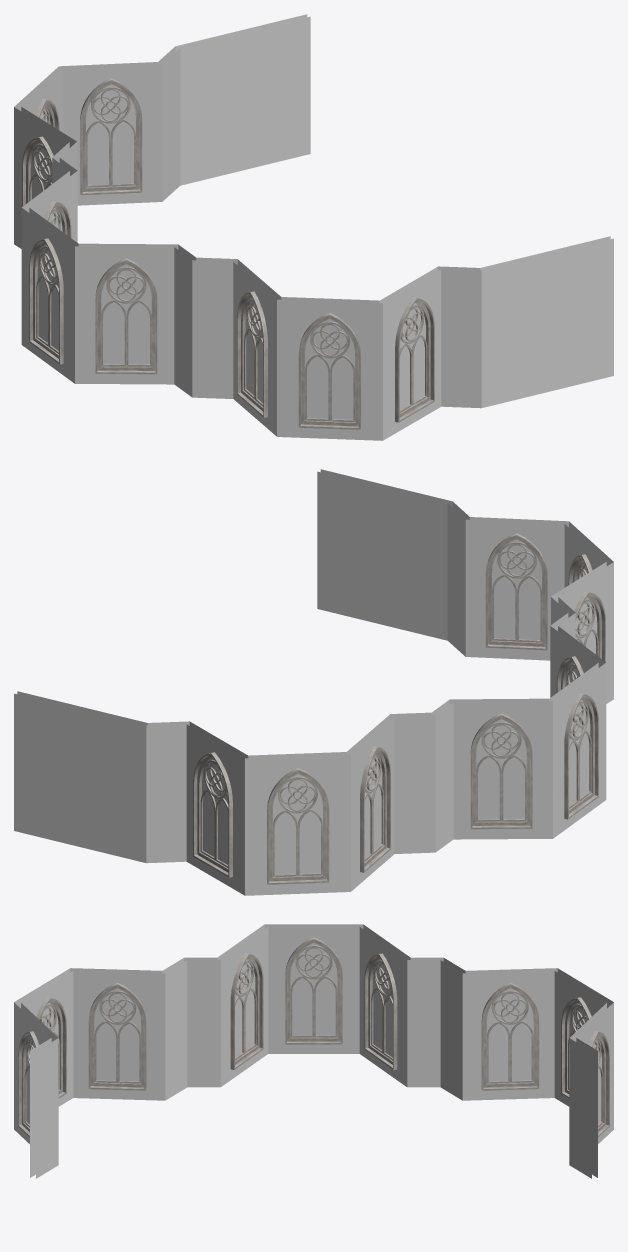
Rendered from Ambulatory_Outer_B_B.fbx.
3 renders of one model, top to bottom at view 1: azimuth 30°, elevation 25°; view 2: azimuth 150°, elevation 25°; view 3: azimuth 270°, elevation 25°, orthographic. The views are drawn at different scales.
Parts seen in each view (by area): view 1: Ambulatory_Outer_B_B; view 2: Ambulatory_Outer_B_B; view 3: Ambulatory_Outer_B_B.
Boxes of the visible parts, x1=… form: Ambulatory_Outer_B_B: x1=14, y1=14, x2=613, y2=440; Ambulatory_Outer_B_B: x1=14, y1=469, x2=613, y2=895; Ambulatory_Outer_B_B: x1=14, y1=924, x2=613, y2=1178.
Size of the model in its own units: 19.02 by 25.64 by 6.
